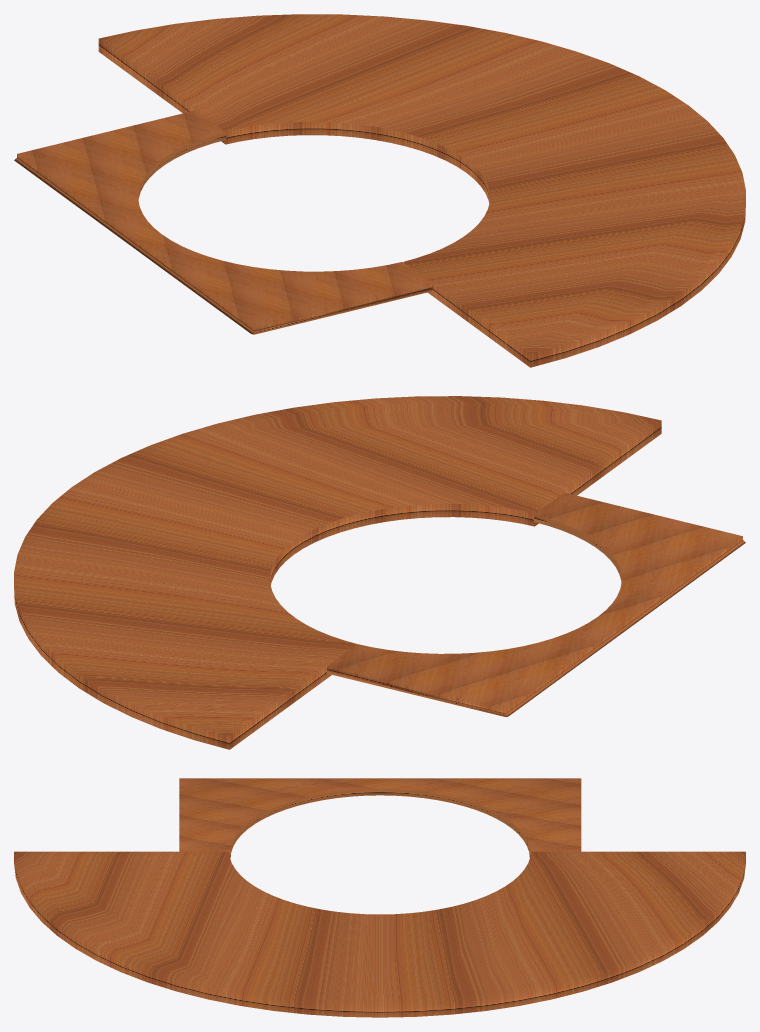
File: theroomv2_test9_roof.gltf
The picture shows the model from 3 angles, top to bottom: view 1: azimuth 30°, elevation 25°; view 2: azimuth 150°, elevation 25°; view 3: azimuth 270°, elevation 25°; orthographic projection. The views are drawn at different scales.
Parts seen in each view (by area): view 1: Cylinder.077, Cube.188; view 2: Cylinder.077, Cube.188; view 3: Cylinder.077, Cube.188.
Part boxes in pixels (x1,y1,x2,y2): Cylinder.077: [98, 14, 745, 367]; Cube.188: [14, 110, 432, 334]; Cylinder.077: [14, 396, 661, 749]; Cube.188: [327, 492, 745, 716]; Cylinder.077: [14, 851, 745, 1017]; Cube.188: [179, 778, 581, 858].
Bounding box in the file's own units: 164 × 3.75 × 221.
Materials: 1 (1 with a texture image).
